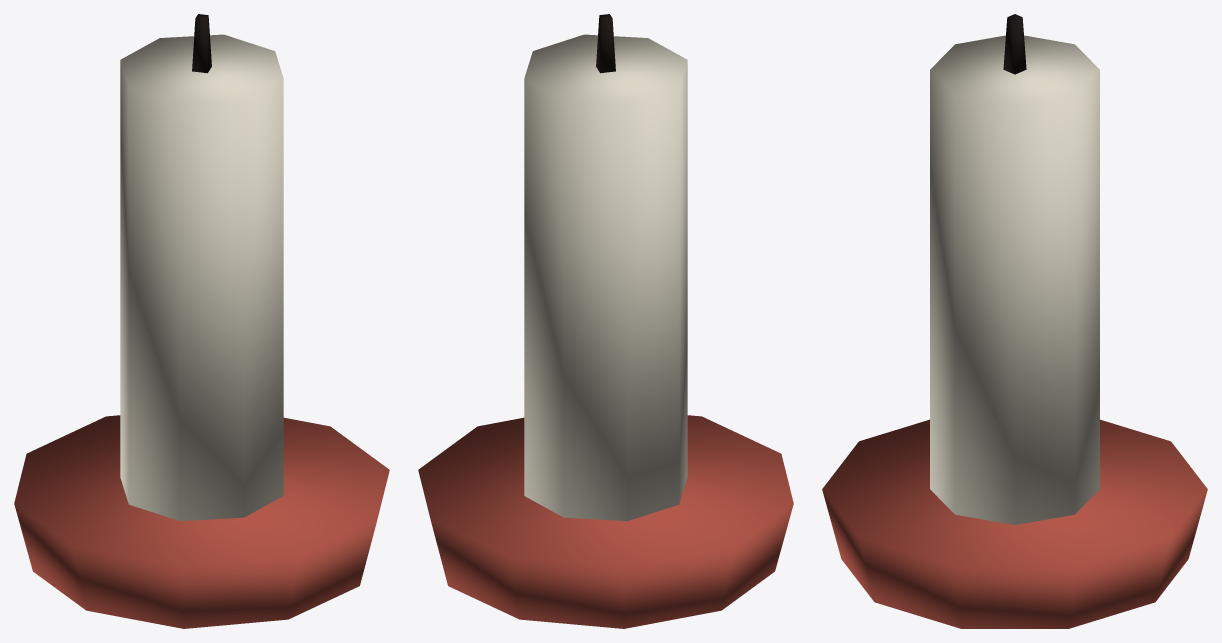
The model's file is rich_mahogany_candle_v0.glb.
The picture shows the model from 3 angles, left to right: view 1: azimuth 30°, elevation 25°; view 2: azimuth 150°, elevation 25°; view 3: azimuth 270°, elevation 25°; orthographic projection.
Visible parts, largest first — view 1: rich_mahogany_candle_v0; view 2: rich_mahogany_candle_v0; view 3: rich_mahogany_candle_v0.
Part boxes in pixels (x1,y1,x2,y2): rich_mahogany_candle_v0: (14, 14, 389, 628); rich_mahogany_candle_v0: (418, 14, 793, 628); rich_mahogany_candle_v0: (822, 14, 1207, 628).
Bounding box in the file's own units: 0.0951 × 0.155 × 0.1.
